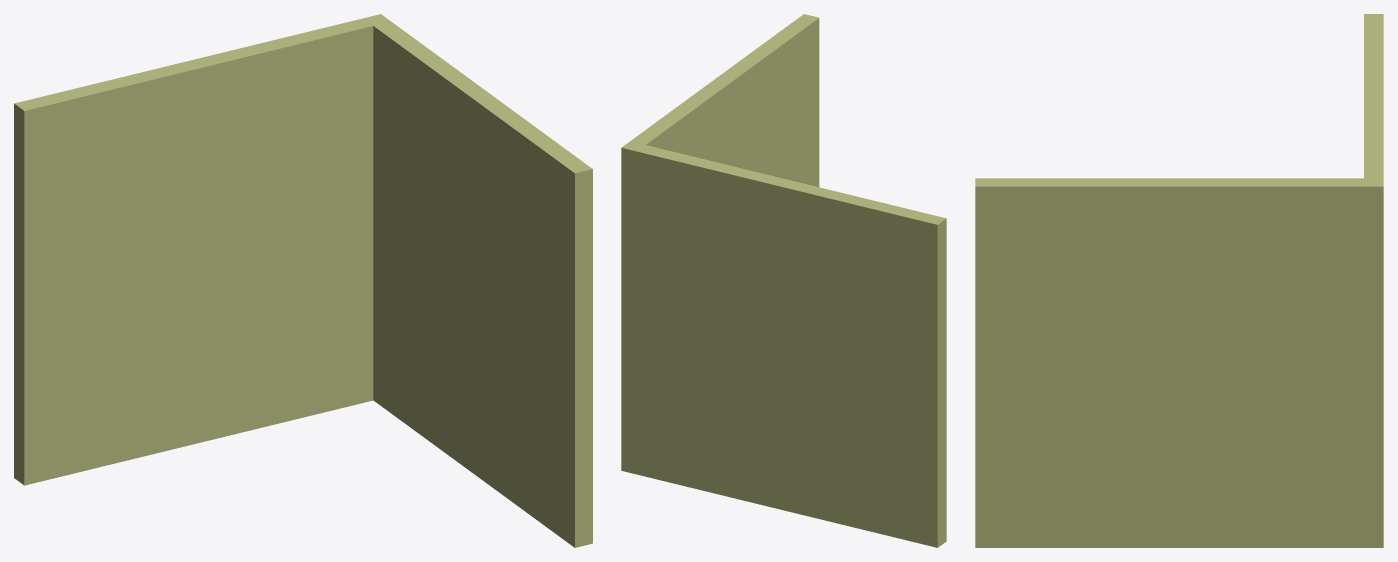
The model's file is Wal_5_Corner_A.fbx.
3 renders of one model, left to right at view 1: azimuth 30°, elevation 25°; view 2: azimuth 150°, elevation 25°; view 3: azimuth 270°, elevation 25°, orthographic. The views are drawn at different scales.
Parts seen in each view (by area): view 1: polySurface31; view 2: polySurface31; view 3: polySurface31.
Boxes of the visible parts, bbox=[...] form: polySurface31: bbox=[14, 14, 592, 547]; polySurface31: bbox=[621, 14, 946, 547]; polySurface31: bbox=[975, 14, 1383, 547].
Bounding box in the file's own units: 4.1 × 4 × 4.1.
1 material, 1 textured.
